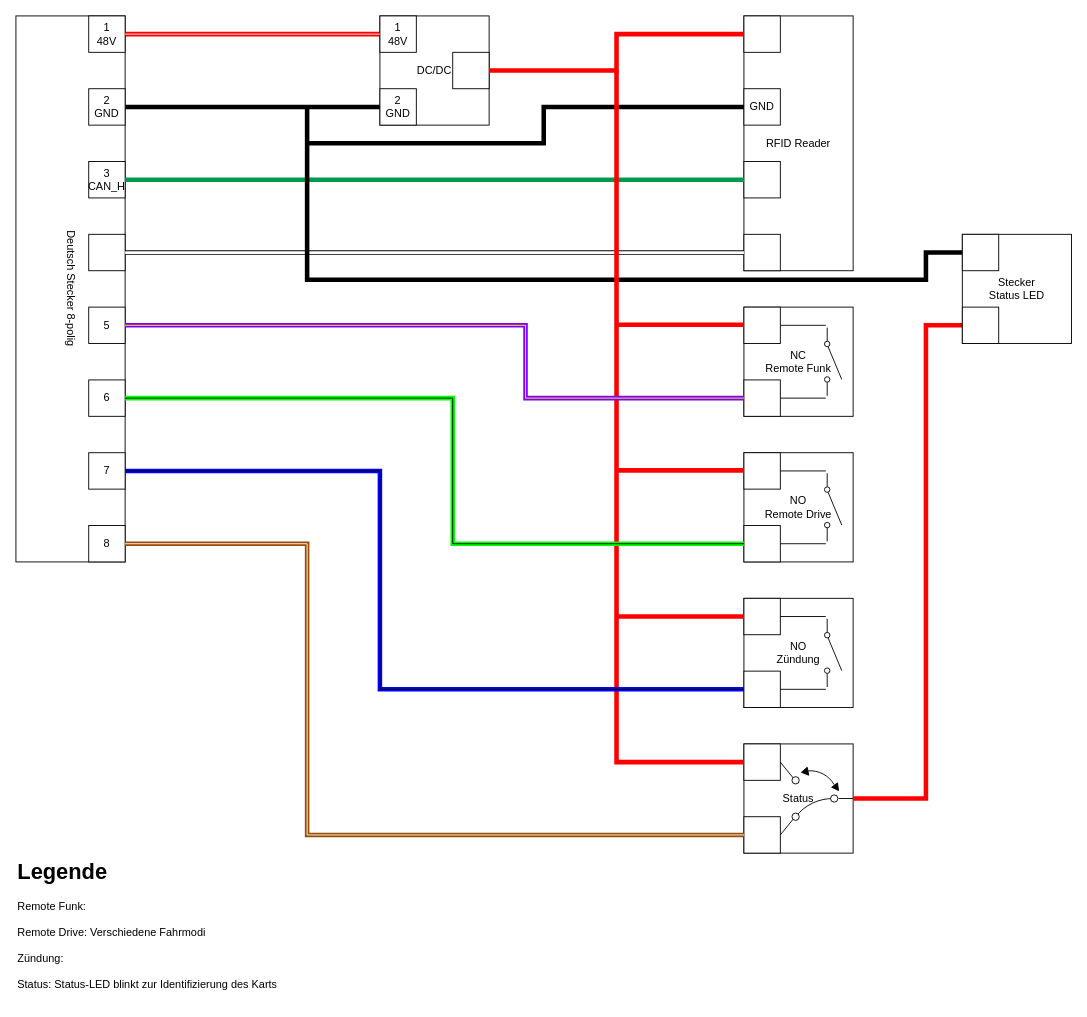
This 1087x1017 diagram has some shape labels left out. The shapes that lost their labels are listed below. From the top down, each one's centre as x and y in pixels, then its label:
At (x=761, y=33): "12V".
At (x=470, y=70): "3 12V".
At (x=761, y=179): "CAN2 HI".
At (x=106, y=252): "4 CAN_L".
At (x=761, y=252): "CAN2 LO".
At (x=761, y=761): "NO".
At (x=761, y=834): "NC".
